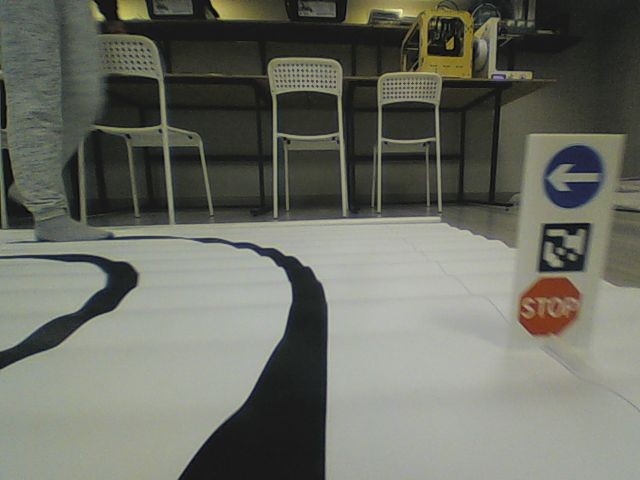Stop: (516, 275, 582, 338)
